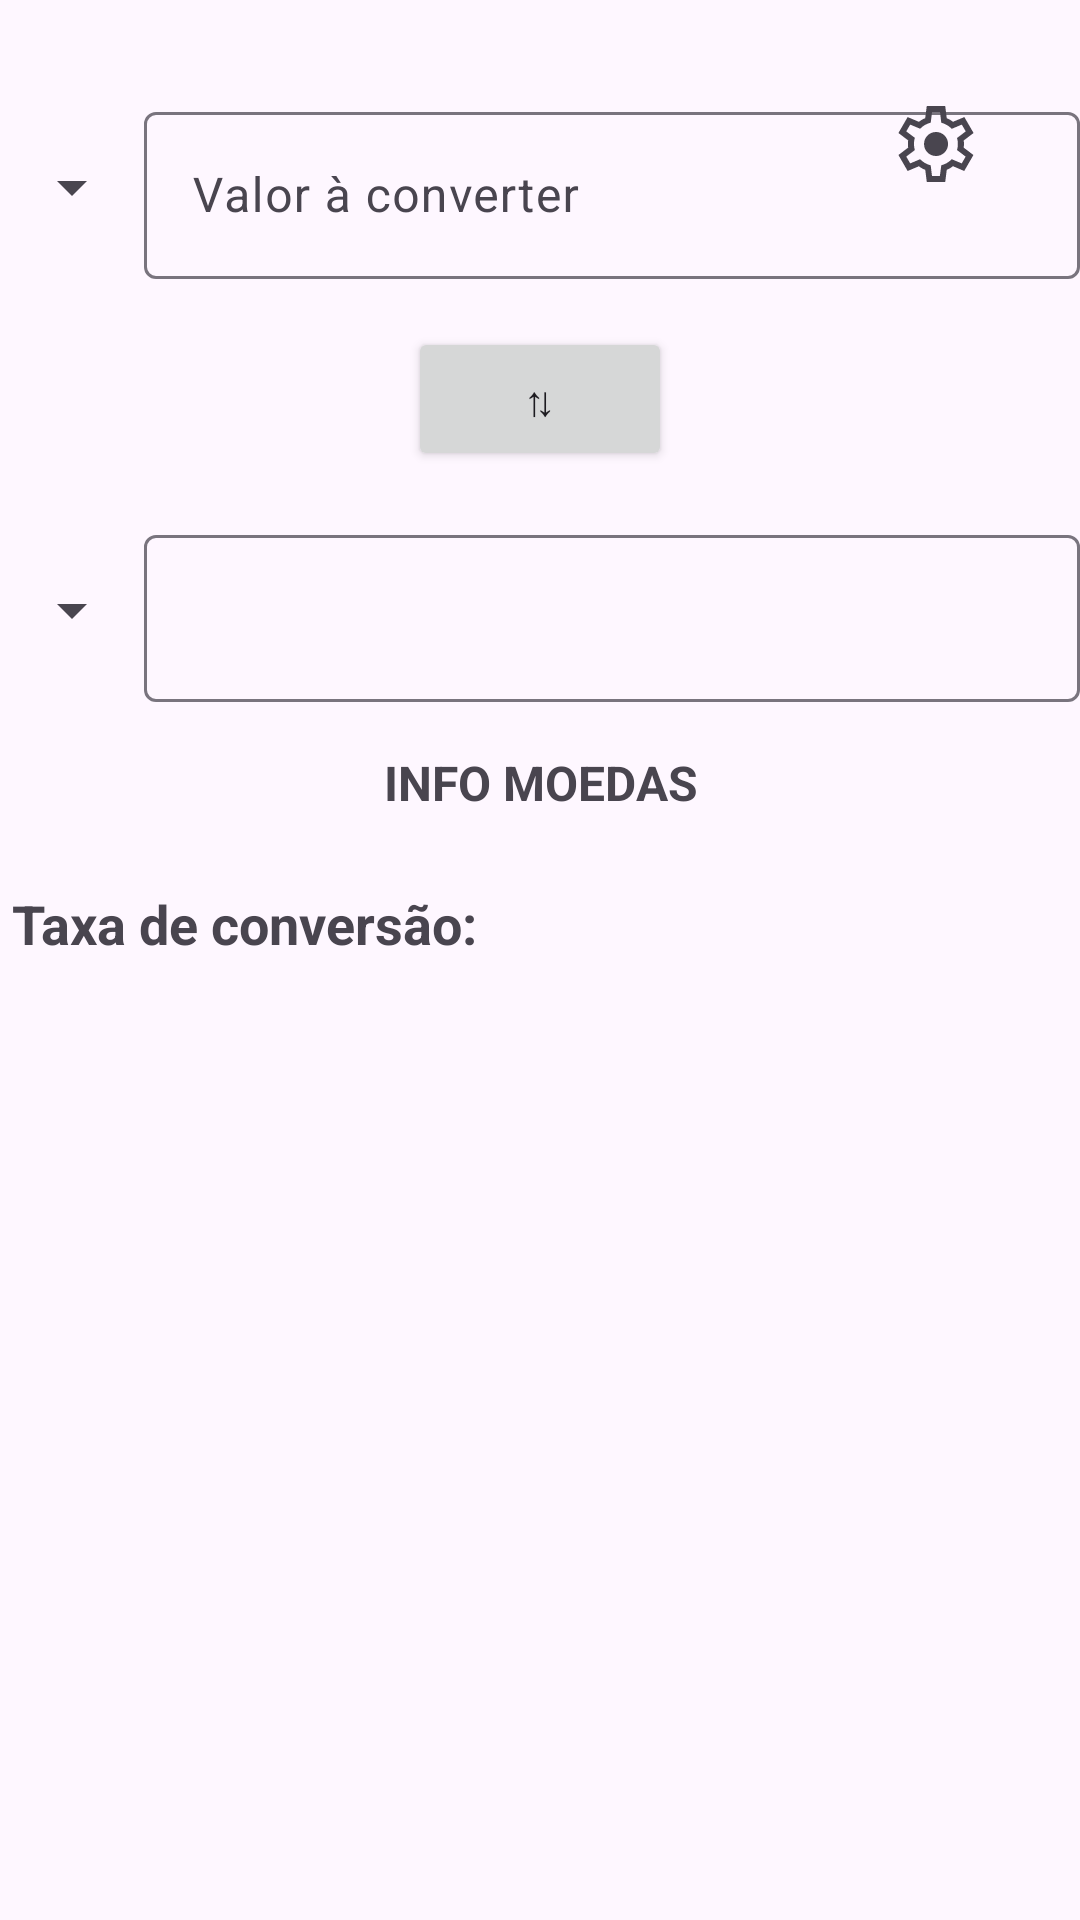

Where to tap for icons on this 1080×1920 app screen, as (x,y):
Configuração: (936,144)
